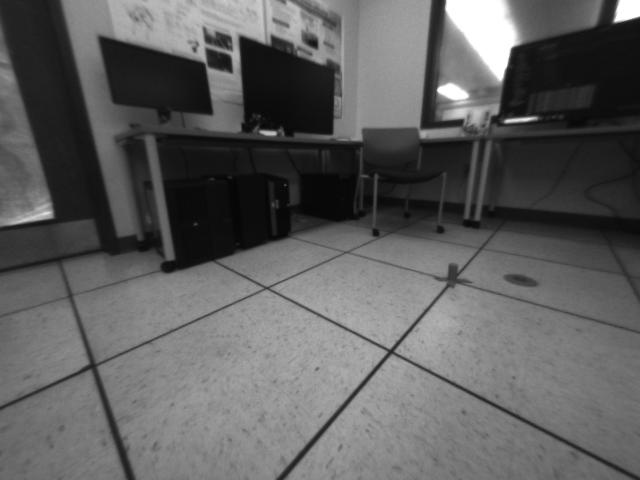X: (431, 261, 475, 289)
